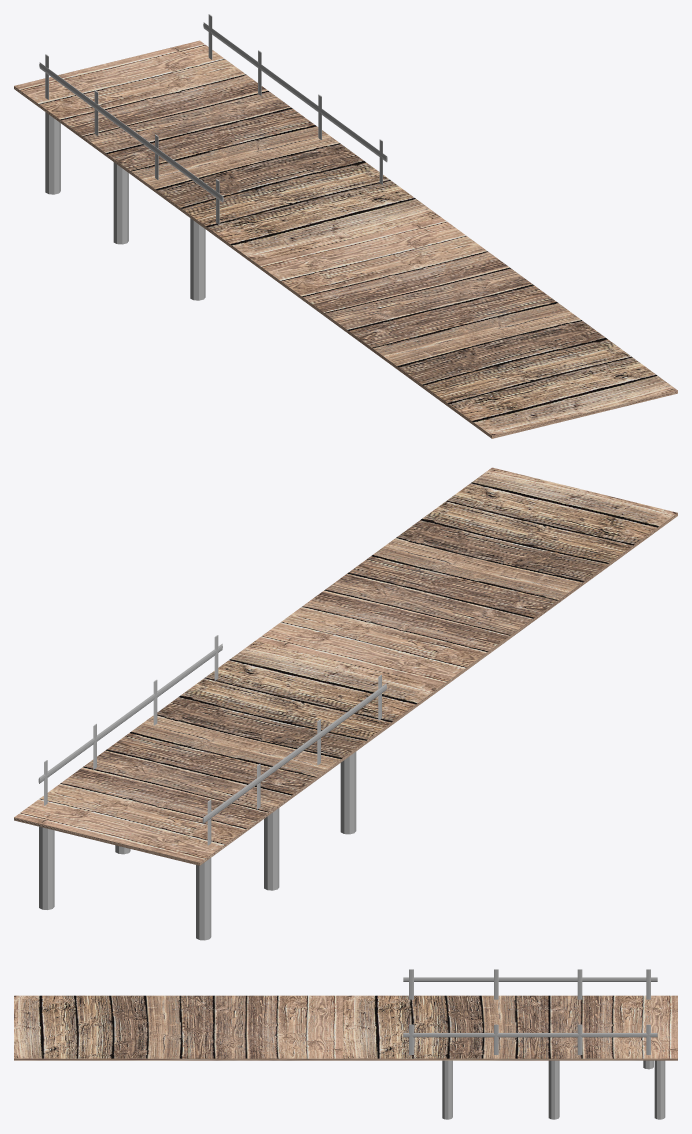
Rendered from WALKBRIG.fbx.
3 renders of one model, top to bottom at view 1: azimuth 30°, elevation 25°; view 2: azimuth 150°, elevation 25°; view 3: azimuth 270°, elevation 25°, orthographic. The views are drawn at different scales.
Visible parts, largest first — view 1: BRIDGE; view 2: BRIDGE; view 3: BRIDGE.
Part boxes in pixels (x1,y1,x2,y2): BRIDGE: (14, 14, 677, 438); BRIDGE: (14, 467, 677, 940); BRIDGE: (14, 969, 677, 1119).
Bounding box in the file's own units: 3.97 × 2.81 × 17.69.
